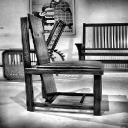chair_success: (4, 6, 111, 119)
